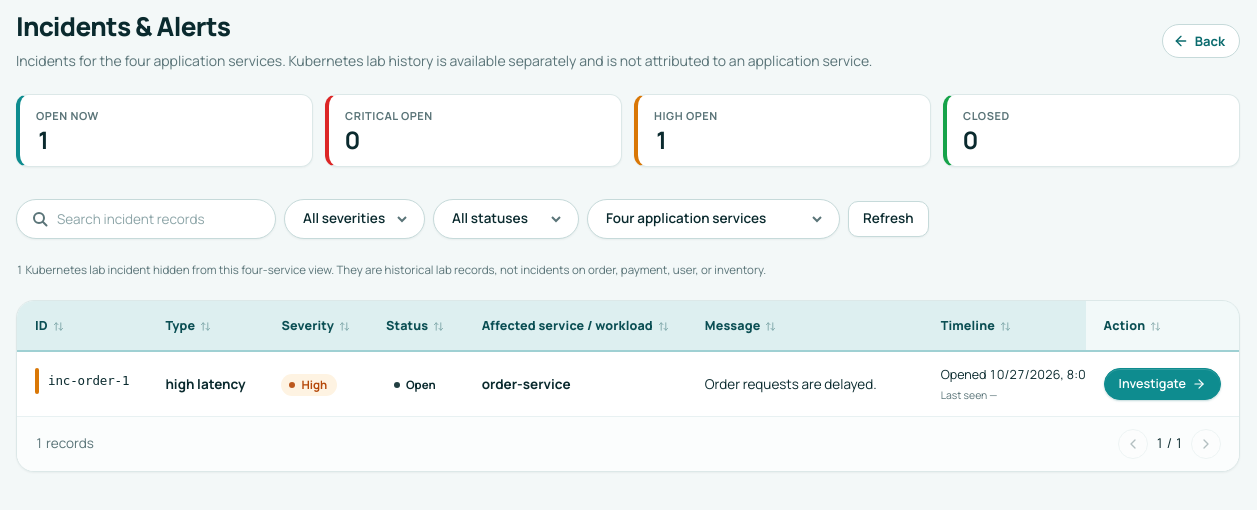
it: alert-to-console flow › defaults to the four application services and makes Kubernetes history optional
Expected: the text "inc-order-1" is shown, [48,372,129,391]
Expected: the text "inc-real-1" is not shown
Select "Include Kubernetes lab history" in the dropdown named "Incident scope". click: x=714, y=219
box: [587,199,840,239]
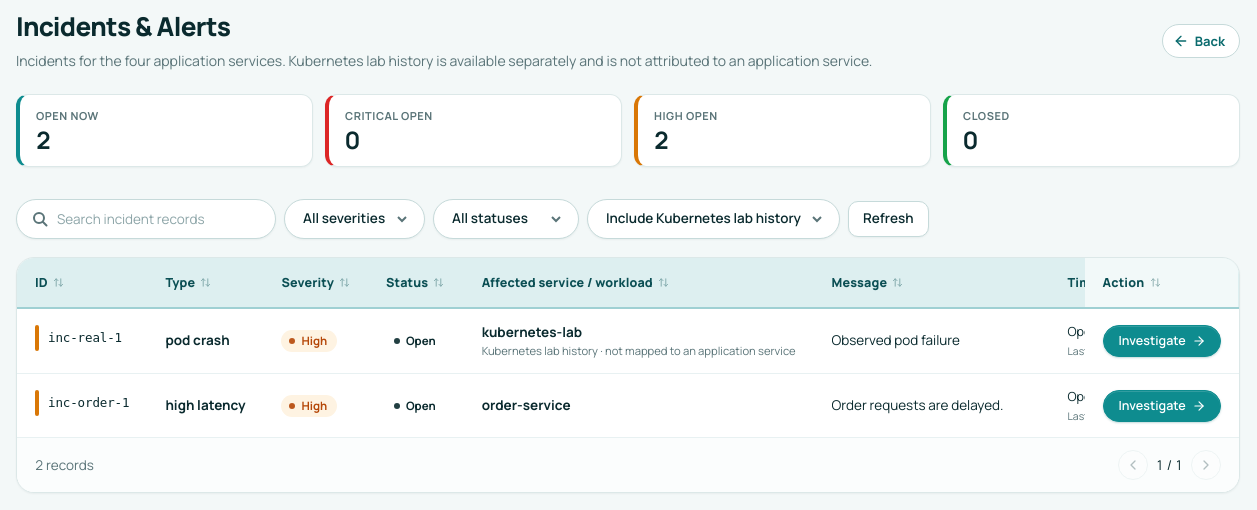
Now the text "inc-real-1" is shown, box [48,328,122,348]
